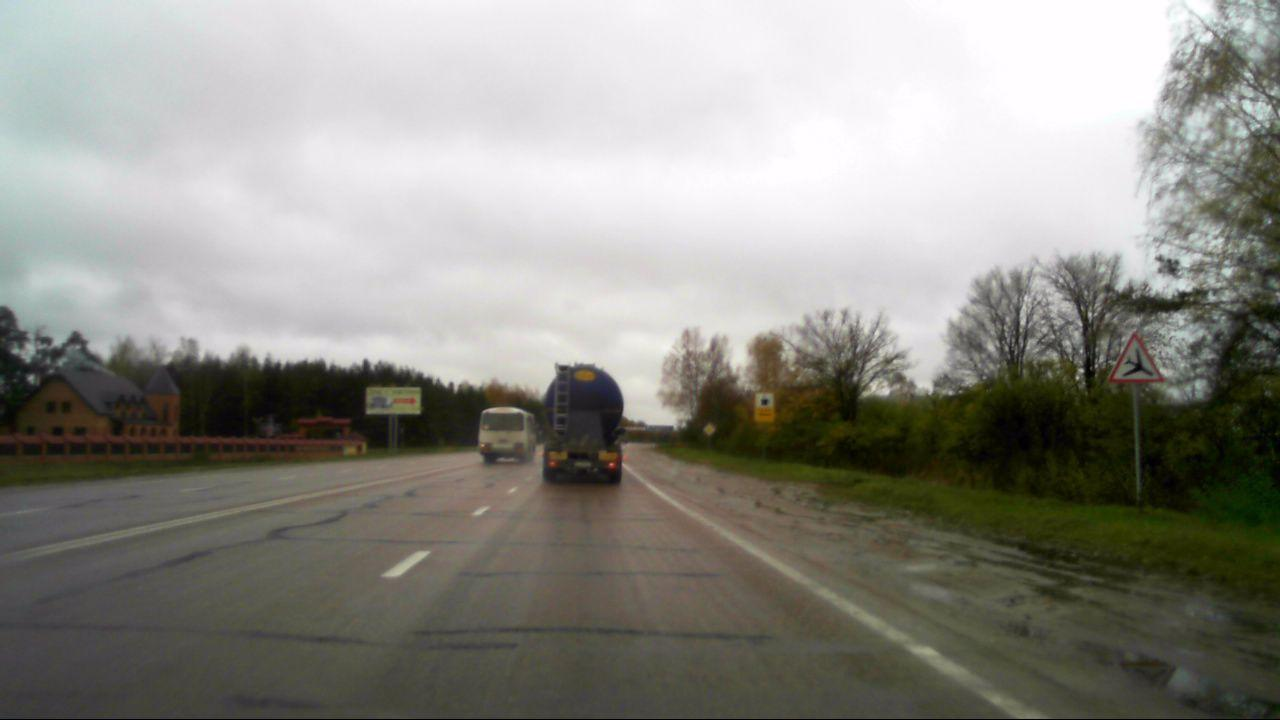1_30: (1109, 331, 1167, 385)
